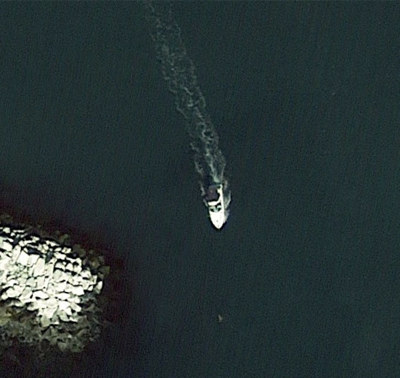boat: (205, 181, 229, 231)
